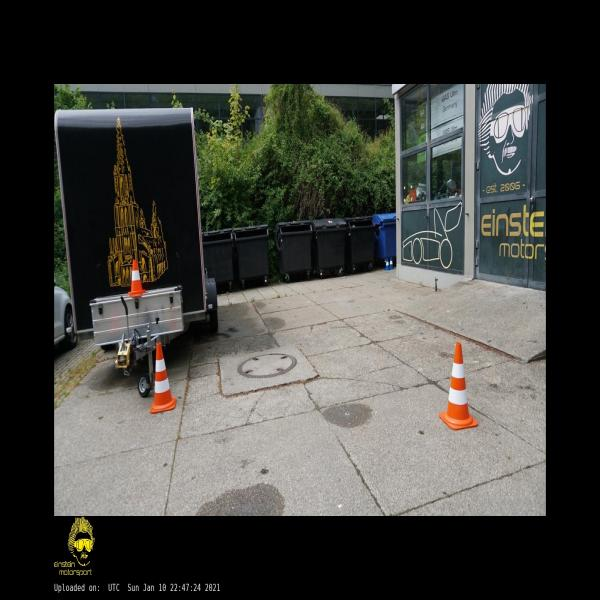large_orange_cone: (439, 343, 478, 430), (150, 342, 176, 414)
orange_cone: (128, 260, 146, 296)
